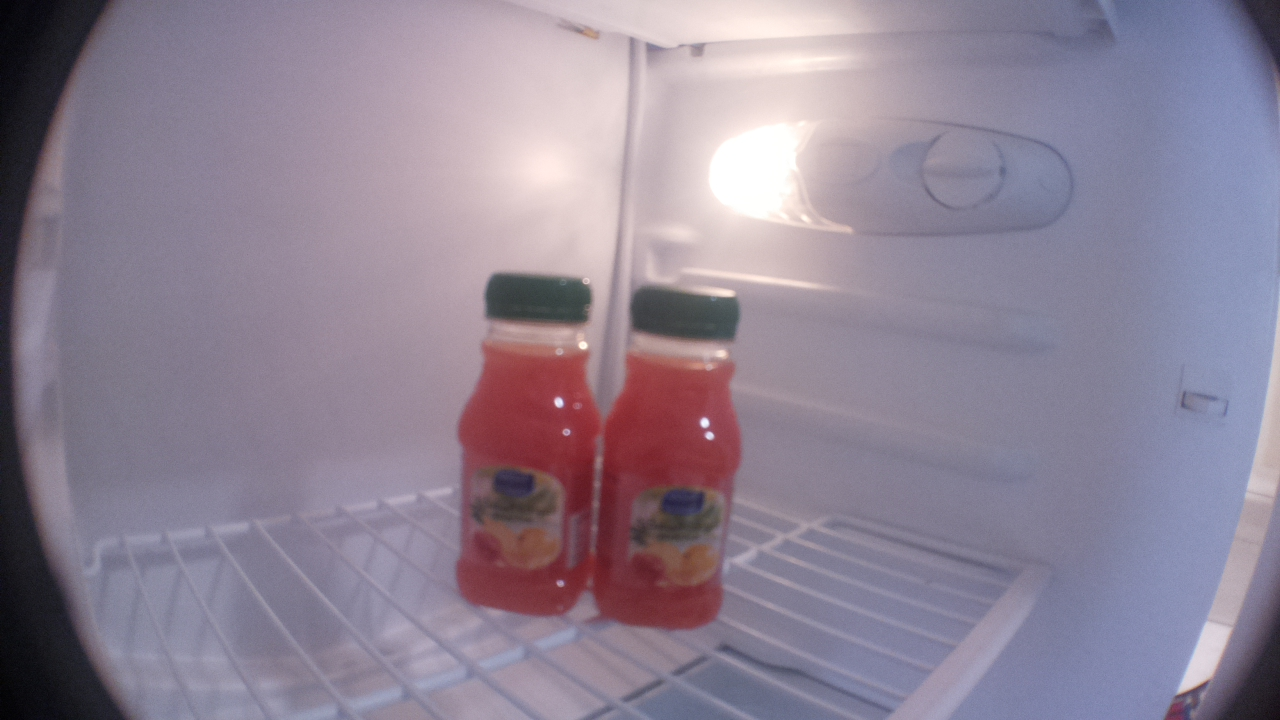juice: (447, 268, 599, 626), (600, 276, 744, 631)
